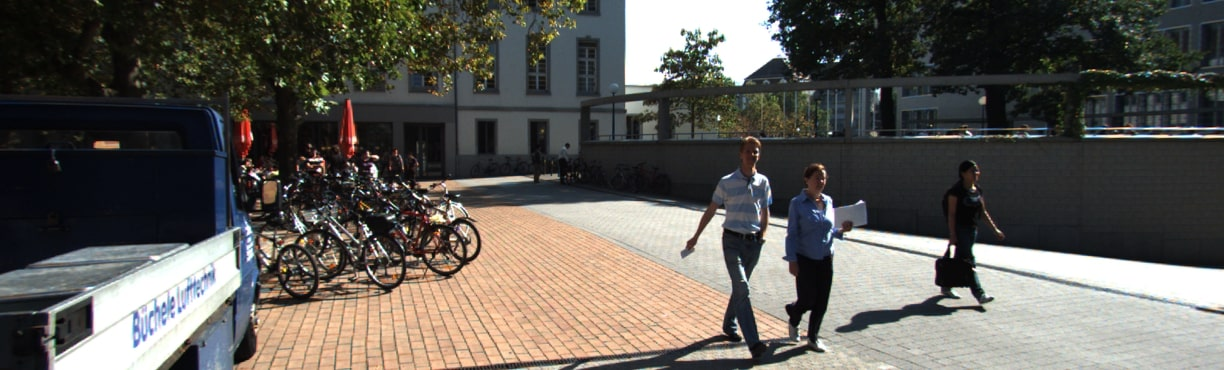person: (693, 129, 780, 364), (785, 162, 859, 365), (927, 151, 1010, 326), (523, 141, 547, 186), (552, 139, 575, 184)
